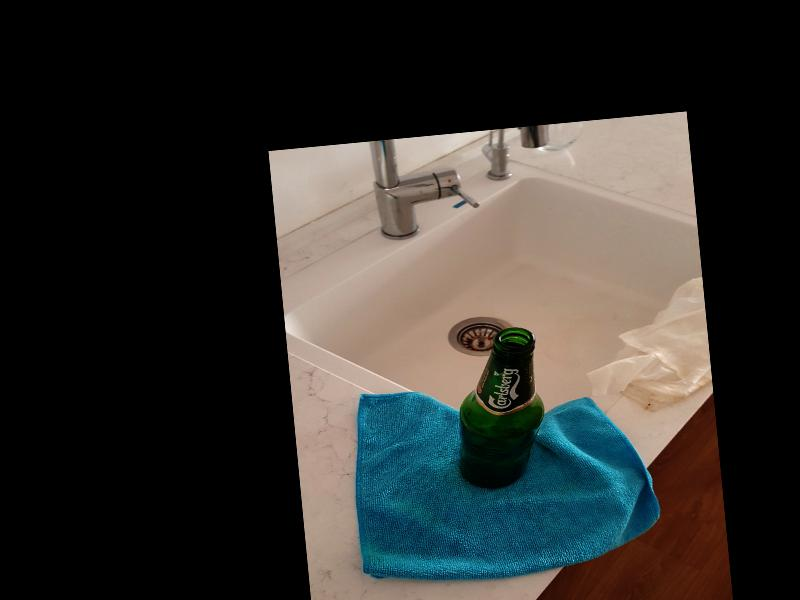Beer: (449, 327, 552, 493)
